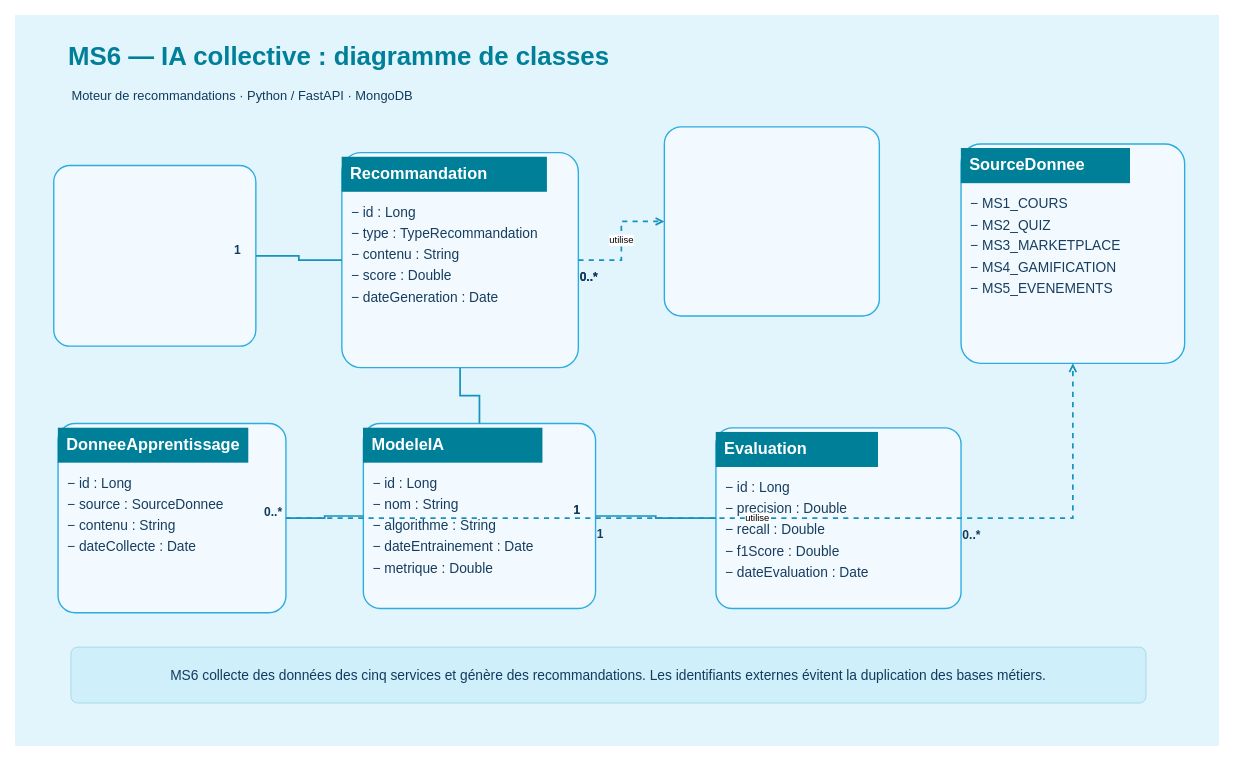
Image size: 1233x760. Some labels were removed from this diagram. The shapes that lost their labels are listed below. From the top down, each one's centre as x and y in pixels, then its label:
At point 771,221: "TypeRecommandation − COURS − QUIZ − LIVRE − DEFI − EVENEMENT".
At point 154,255: "Eleve − id : Long − nom : String − prenom : String − niveau : String".
